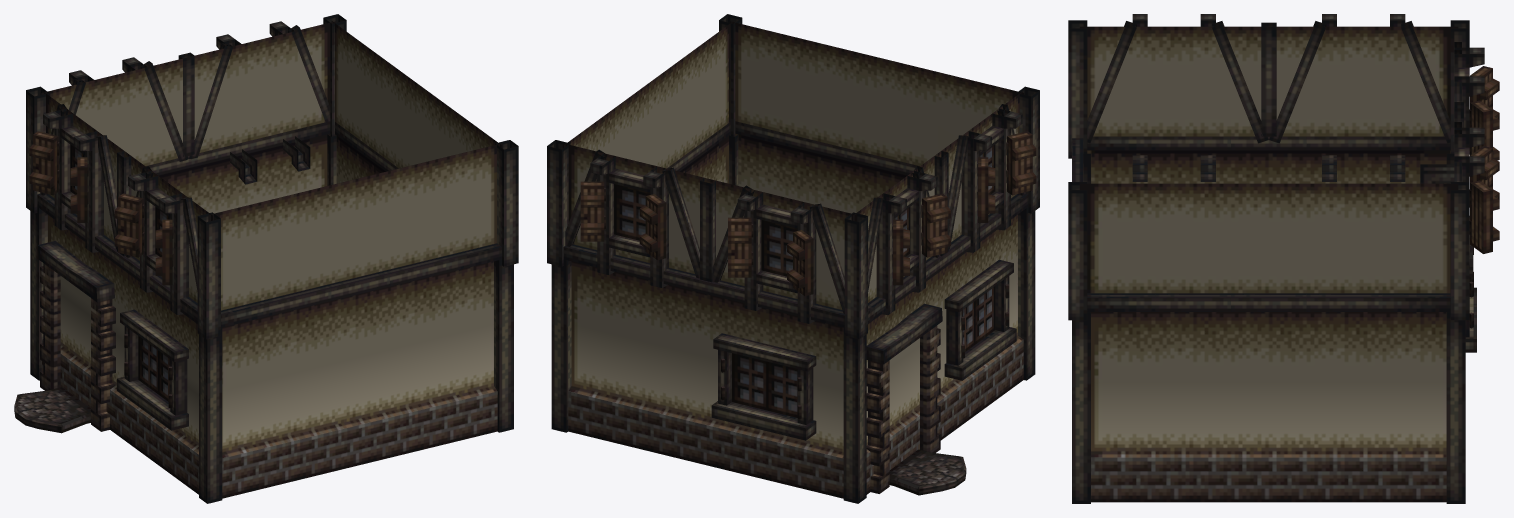
The model's file is EnvBdgMD_Mount_A_Outdoor_Inn.FBX.
The picture shows the model from 3 angles, left to right: view 1: azimuth 30°, elevation 25°; view 2: azimuth 150°, elevation 25°; view 3: azimuth 270°, elevation 25°; orthographic projection. The views are drawn at different scales.
Visible parts, largest first — view 1: EnvBdgMD_Mount_A_Outdoor_Inn; view 2: EnvBdgMD_Mount_A_Outdoor_Inn; view 3: EnvBdgMD_Mount_A_Outdoor_Inn.
Boxes of the visible parts, x1,y1,x2,y2 form: EnvBdgMD_Mount_A_Outdoor_Inn: [14, 14, 518, 503]; EnvBdgMD_Mount_A_Outdoor_Inn: [547, 14, 1039, 503]; EnvBdgMD_Mount_A_Outdoor_Inn: [1068, 14, 1499, 503].
Size of the model in its own units: 620 by 464 by 570.
Materials: 1 (1 with a texture image).
